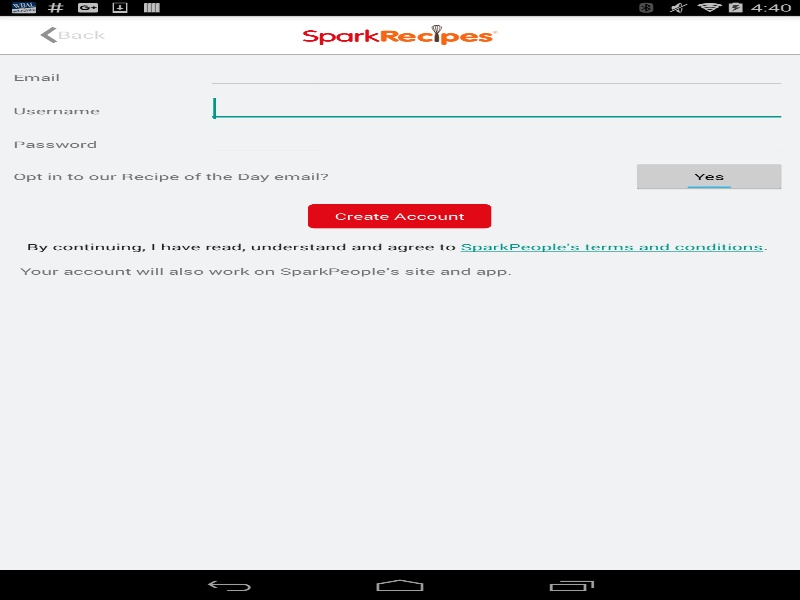Input: (206, 61, 786, 88), (206, 94, 786, 121), (206, 128, 786, 155)
